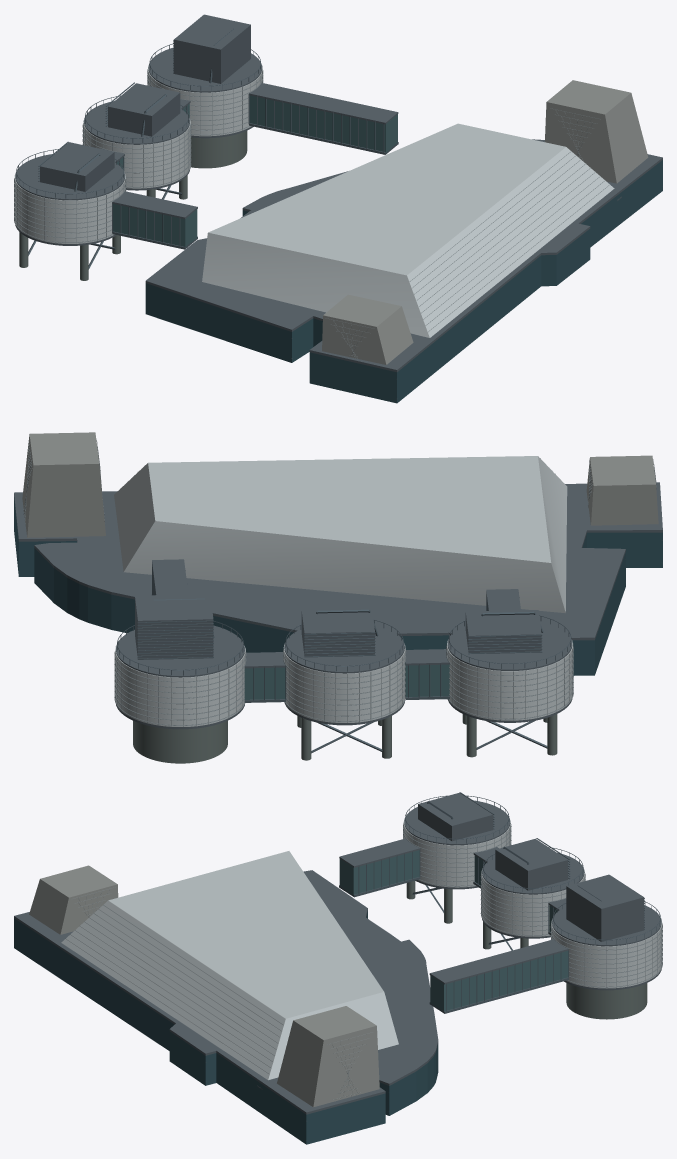
The model's file is norwegian-petroleum-museum-near.glb.
The picture shows the model from 3 angles, top to bottom: view 1: azimuth 30°, elevation 25°; view 2: azimuth 150°, elevation 25°; view 3: azimuth 270°, elevation 25°; orthographic projection. The views are drawn at different scales.
Parts seen in each view (by area): view 1: norwegian-petroleum-museum-0-silver, norwegian-petroleum-museum-0-roof, norwegian-petroleum-museum-0-glass, norwegian-petroleum-museum-0-stone, norwegian-petroleum-museum-0-joints, norwegian-petroleum-museum-0-light, norwegian-petroleum-museum-0-steel, norwegian-petroleum-museum-0-concrete; view 2: norwegian-petroleum-museum-0-silver, norwegian-petroleum-museum-0-roof, norwegian-petroleum-museum-0-stone, norwegian-petroleum-museum-0-glass, norwegian-petroleum-museum-0-joints, norwegian-petroleum-museum-0-steel, norwegian-petroleum-museum-0-concrete, norwegian-petroleum-museum-0-light; view 3: norwegian-petroleum-museum-0-silver, norwegian-petroleum-museum-0-roof, norwegian-petroleum-museum-0-glass, norwegian-petroleum-museum-0-stone, norwegian-petroleum-museum-0-light, norwegian-petroleum-museum-0-joints, norwegian-petroleum-museum-0-steel, norwegian-petroleum-museum-0-concrete.
Boxes of the visible parts, left/top/right/bottom form: norwegian-petroleum-museum-0-silver: left=14, top=65, right=614, bottom=337; norwegian-petroleum-museum-0-roof: left=15, top=14, right=662, bottom=372; norwegian-petroleum-museum-0-glass: left=145, top=160, right=662, bottom=403; norwegian-petroleum-museum-0-stone: left=322, top=80, right=648, bottom=364; norwegian-petroleum-museum-0-joints: left=14, top=66, right=609, bottom=358; norwegian-petroleum-museum-0-light: left=113, top=95, right=397, bottom=246; norwegian-petroleum-museum-0-steel: left=16, top=28, right=662, bottom=399; norwegian-petroleum-museum-0-concrete: left=19, top=131, right=247, bottom=280; norwegian-petroleum-museum-0-silver: left=114, top=456, right=572, bottom=726; norwegian-petroleum-museum-0-roof: left=14, top=482, right=662, bottom=729; norwegian-petroleum-museum-0-stone: left=22, top=432, right=658, bottom=537; norwegian-petroleum-museum-0-glass: left=14, top=497, right=662, bottom=675; norwegian-petroleum-museum-0-joints: left=23, top=440, right=656, bottom=726; norwegian-petroleum-museum-0-steel: left=117, top=540, right=662, bottom=753; norwegian-petroleum-museum-0-concrete: left=133, top=714, right=557, bottom=763; norwegian-petroleum-museum-0-light: left=244, top=662, right=449, bottom=699; norwegian-petroleum-museum-0-silver: left=61, top=819, right=662, bottom=1080; norwegian-petroleum-museum-0-roof: left=14, top=792, right=661, bottom=1114; norwegian-petroleum-museum-0-glass: left=14, top=910, right=438, bottom=1144; norwegian-petroleum-museum-0-stone: left=29, top=865, right=379, bottom=1107; norwegian-petroleum-museum-0-light: left=339, top=850, right=568, bottom=1011; norwegian-petroleum-museum-0-joints: left=65, top=823, right=662, bottom=1099; norwegian-petroleum-museum-0-steel: left=14, top=792, right=660, bottom=1140; norwegian-petroleum-museum-0-concrete: left=406, top=881, right=647, bottom=1019.
Size of the model in its own units: 86.18 by 17.25 by 89.02.
